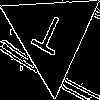T: (26, 10, 69, 65)
